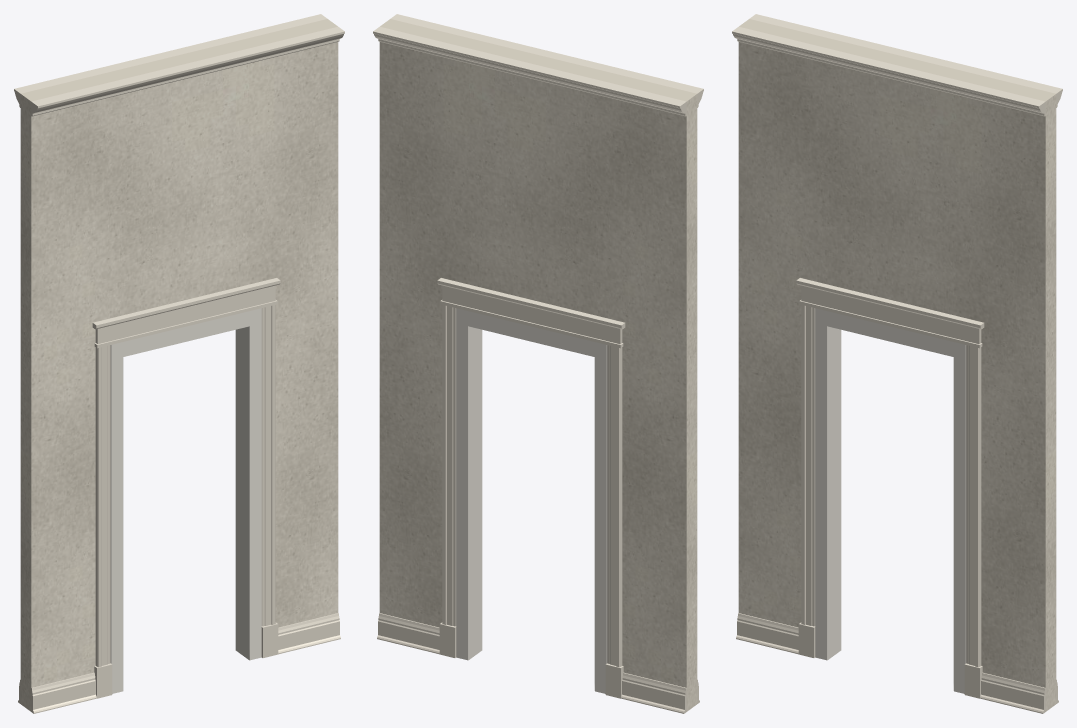
Rendered from interior_wall_doorway.glb.
3 renders of one model, left to right at view 1: azimuth 30°, elevation 25°; view 2: azimuth 150°, elevation 25°; view 3: azimuth 330°, elevation 25°, orthographic.
Visible parts, largest first — view 1: interior_wall_doorway_plaster, molduras, interior_wall_doorway_frame; view 2: interior_wall_doorway_plaster, molduras, interior_wall_doorway_frame; view 3: interior_wall_doorway_plaster, molduras, interior_wall_doorway_frame.
Part boxes in pixels (bbox=[...]): interior_wall_doorway_plaster: bbox=[20, 19, 338, 711]; molduras: bbox=[14, 14, 344, 713]; interior_wall_doorway_frame: bbox=[110, 308, 261, 693]; interior_wall_doorway_plaster: bbox=[379, 19, 697, 711]; molduras: bbox=[373, 14, 703, 713]; interior_wall_doorway_frame: bbox=[456, 308, 607, 693]; interior_wall_doorway_plaster: bbox=[738, 19, 1056, 711]; molduras: bbox=[732, 14, 1062, 713]; interior_wall_doorway_frame: bbox=[815, 308, 966, 693].
Bounding box in the file's own units: 2 × 3.8 × 0.27.
3 materials, 1 textured.
